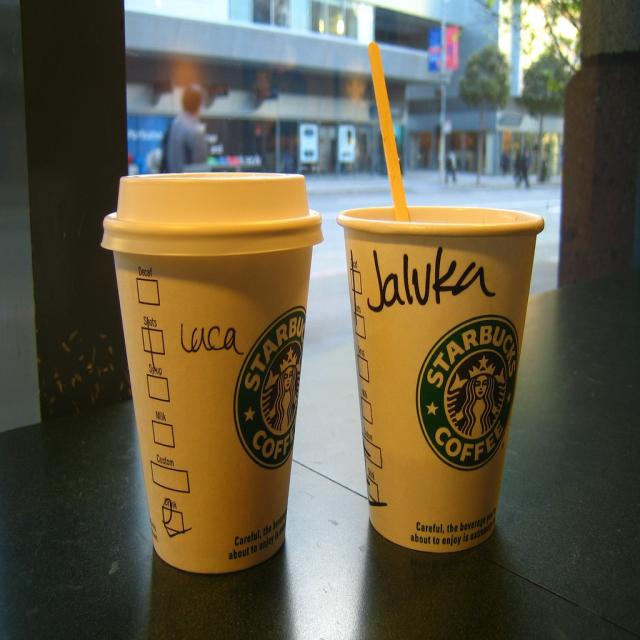starbucks: (417, 314, 521, 470), (233, 308, 307, 470)
